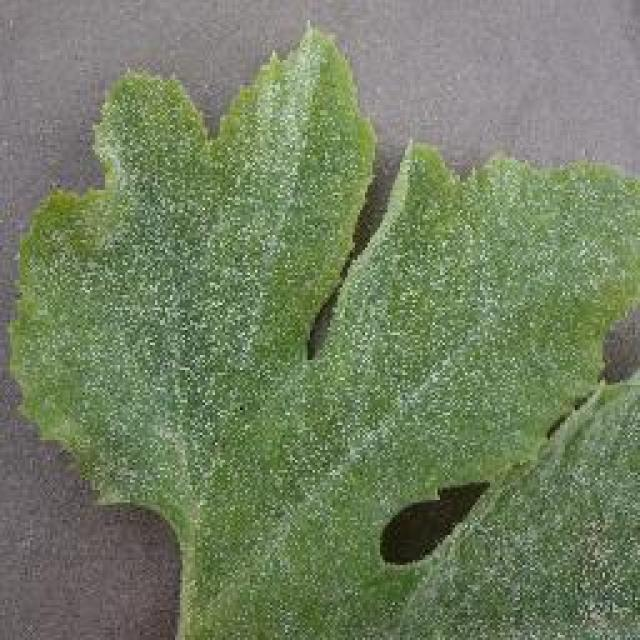Squ_Powdery_mildew: (93, 158, 600, 602)
